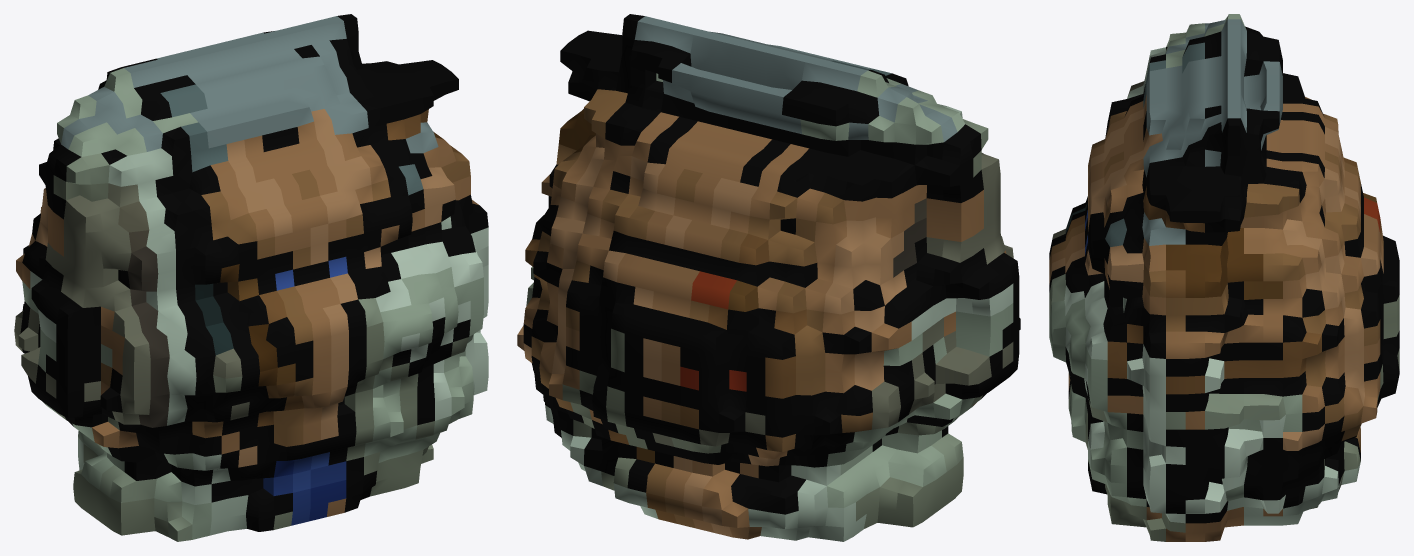
File: Icon_733_02.obj
The picture shows the model from 3 angles, left to right: view 1: azimuth 30°, elevation 25°; view 2: azimuth 150°, elevation 25°; view 3: azimuth 270°, elevation 25°; orthographic projection. The views are drawn at different scales.
Size of the model in its own units: 2.4 by 2.28 by 1.8.
